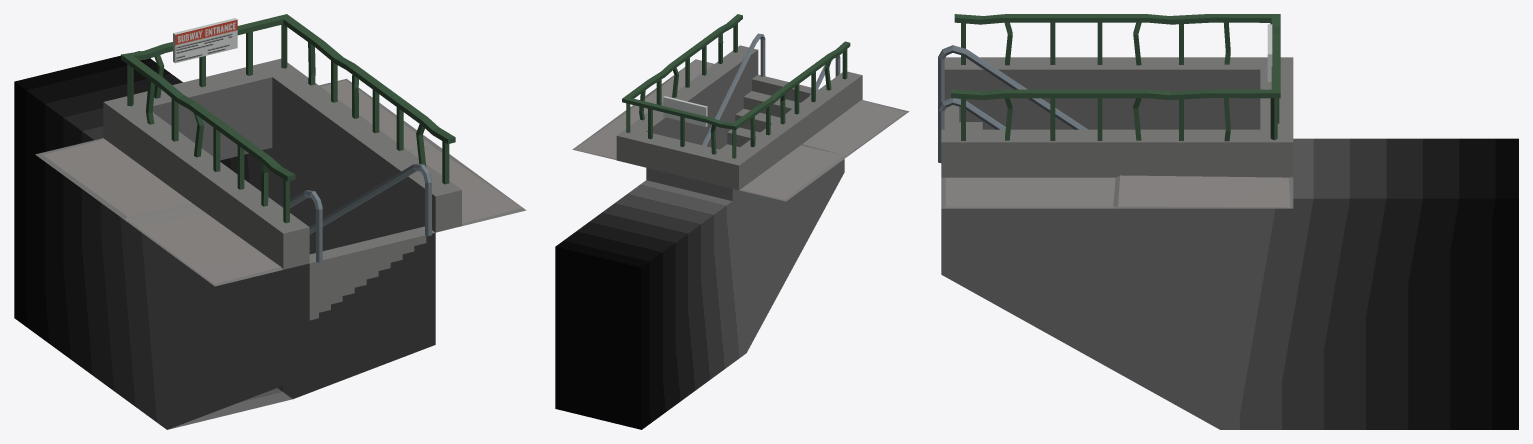
The model's file is SM_Env_SubwayEntrance_02.fbx.
3 views of the same model, side by side, from view 1: azimuth 30°, elevation 25°; view 2: azimuth 150°, elevation 25°; view 3: azimuth 270°, elevation 25° (orthographic). The views are drawn at different scales.
Visible parts, largest first — view 1: SM_Env_SubwayEntrance_02; view 2: SM_Env_SubwayEntrance_02; view 3: SM_Env_SubwayEntrance_02.
Boxes of the visible parts, bbox=[...] form: SM_Env_SubwayEntrance_02: bbox=[14, 14, 526, 429]; SM_Env_SubwayEntrance_02: bbox=[555, 14, 909, 429]; SM_Env_SubwayEntrance_02: bbox=[938, 14, 1518, 429].
Bounding box in the file's own units: 500 × 566 × 826.
